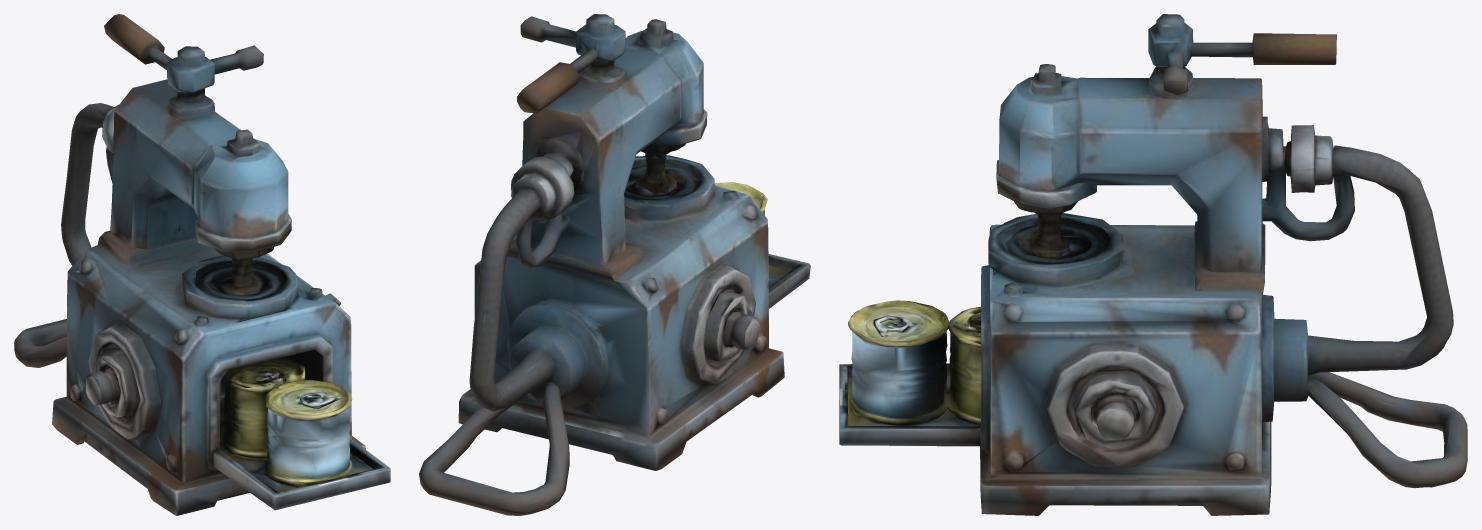
The model's file is guantouji-2.glb.
The picture shows the model from 3 angles, left to right: view 1: azimuth 30°, elevation 25°; view 2: azimuth 150°, elevation 25°; view 3: azimuth 270°, elevation 25°; orthographic projection. The views are drawn at different scales.
Parts seen in each view (by area): view 1: node_0; view 2: node_0; view 3: node_0.
Boxes of the visible parts, x1=… form: node_0: x1=14, y1=14, x2=390, y2=515; node_0: x1=419, y1=14, x2=810, y2=515; node_0: x1=839, y1=14, x2=1467, y2=515.
Bounding box in the file's own units: 0.4959 × 0.7488 × 0.9597.
Materials: 1 (1 with a texture image).
